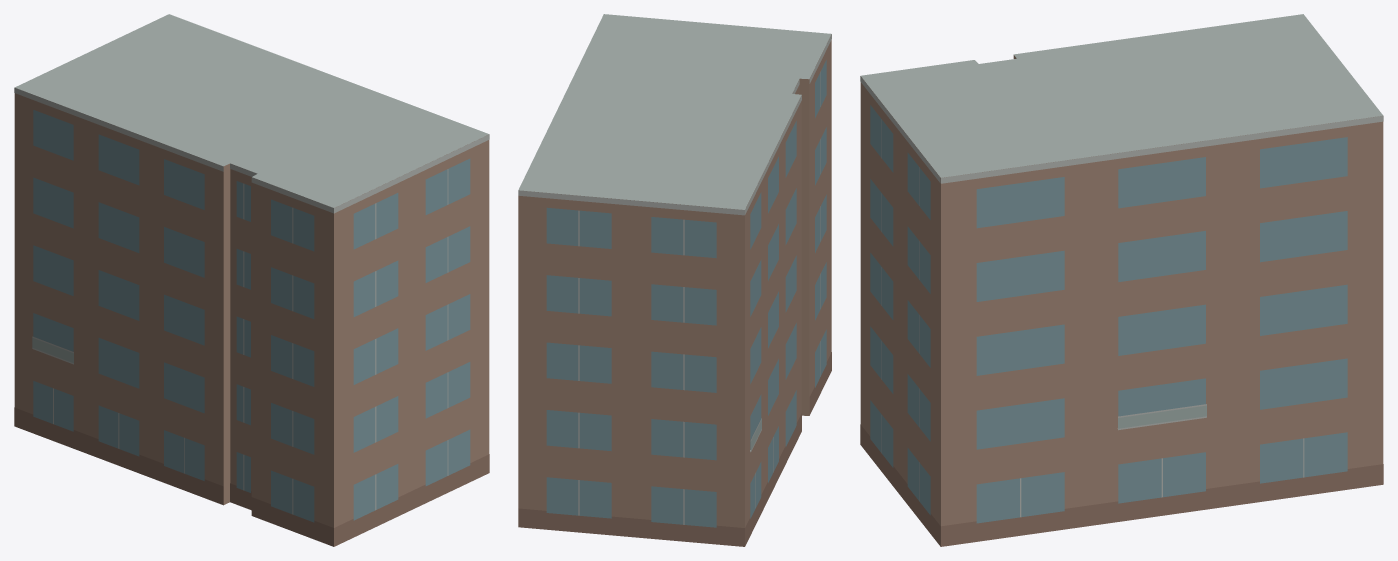
File: survey-upis-32612318.glb
The picture shows the model from 3 angles, left to right: view 1: azimuth 30°, elevation 25°; view 2: azimuth 150°, elevation 25°; view 3: azimuth 270°, elevation 25°; orthographic projection. The views are drawn at different scales.
Visible parts, largest first — view 1: survey-upis-32612318.tmp; view 2: survey-upis-32612318.tmp; view 3: survey-upis-32612318.tmp.
Part boxes in pixels (x1,y1,x2,y2): survey-upis-32612318.tmp: [14, 14, 489, 546]; survey-upis-32612318.tmp: [518, 14, 831, 546]; survey-upis-32612318.tmp: [860, 14, 1383, 546].
Size of the model in its own units: 14.49 by 15.2 by 19.53.
